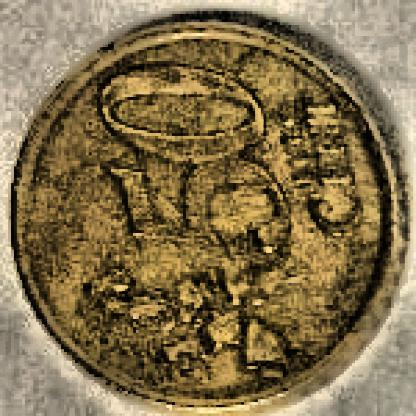coin: (12, 22, 409, 412)
